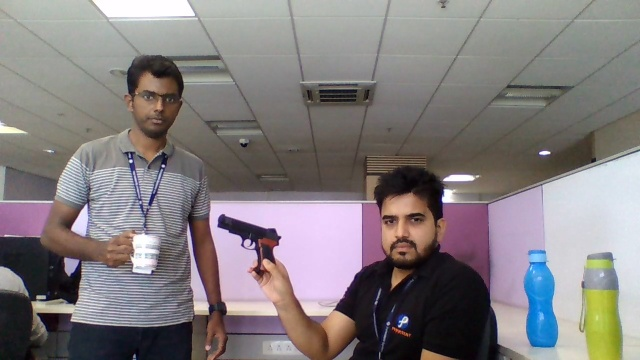gun: (215, 209, 282, 258)
